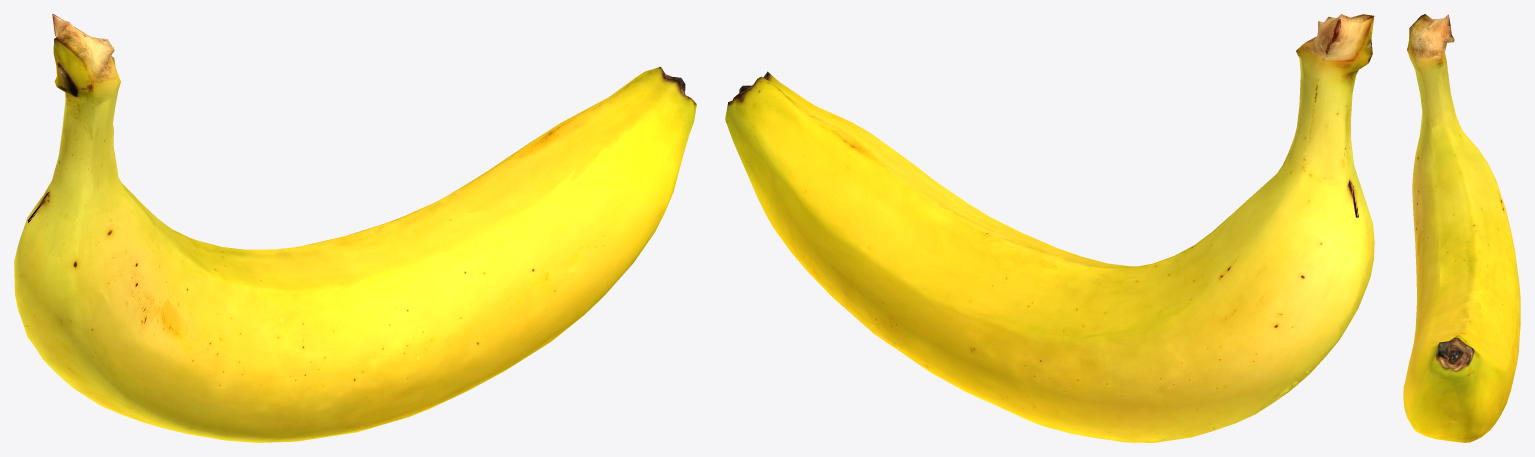
Rendered from banana-v1.glb.
The picture shows the model from 3 angles, left to right: view 1: azimuth 30°, elevation 25°; view 2: azimuth 150°, elevation 25°; view 3: azimuth 270°, elevation 25°; orthographic projection. The views are drawn at different scales.
Parts seen in each view (by area): view 1: banana; view 2: banana; view 3: banana.
Boxes of the visible parts, left/top/right/bottom form: banana: left=14, top=14, right=696, bottom=442; banana: left=725, top=14, right=1374, bottom=442; banana: left=1403, top=14, right=1520, bottom=442.
Size of the model in its own units: 6.75 by 4.7 by 1.6.
1 material, 1 textured.
